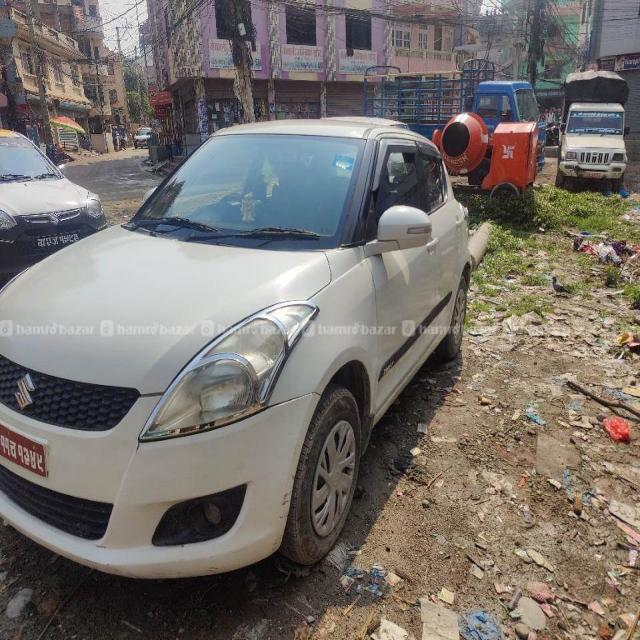License-plate: (1, 425, 48, 478)
